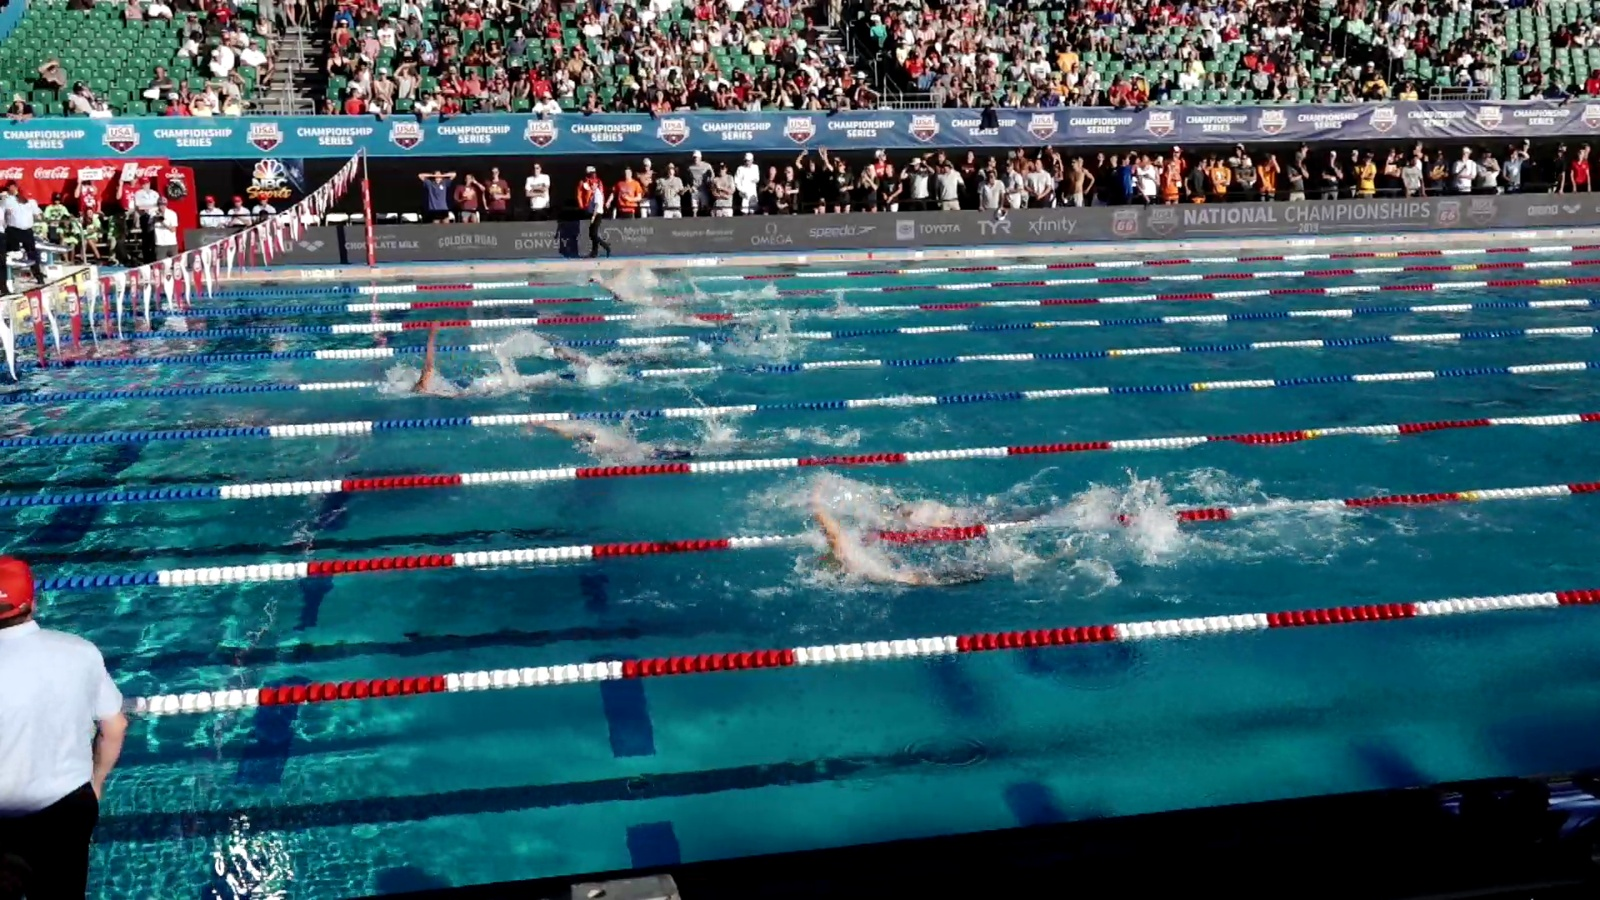swimmerw: (805, 508, 977, 601), (391, 315, 518, 397), (829, 471, 995, 527), (531, 416, 727, 464), (531, 336, 662, 375), (590, 276, 684, 308), (616, 265, 693, 295), (643, 312, 753, 327)
